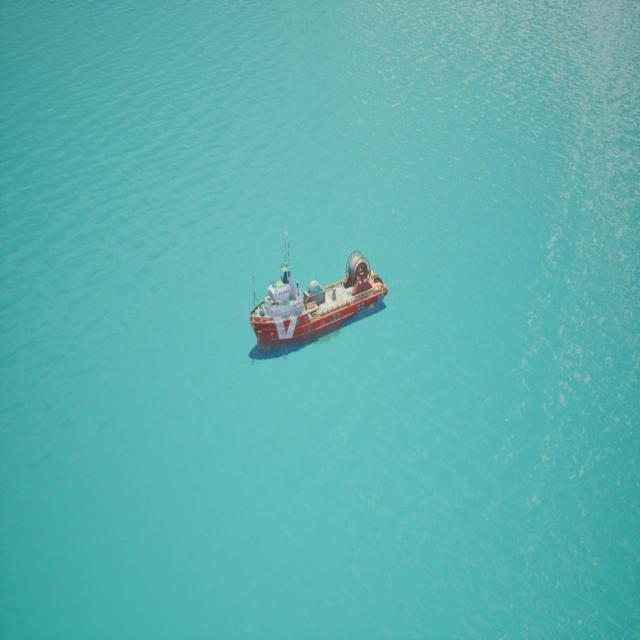tug boat: (248, 235, 390, 363)
